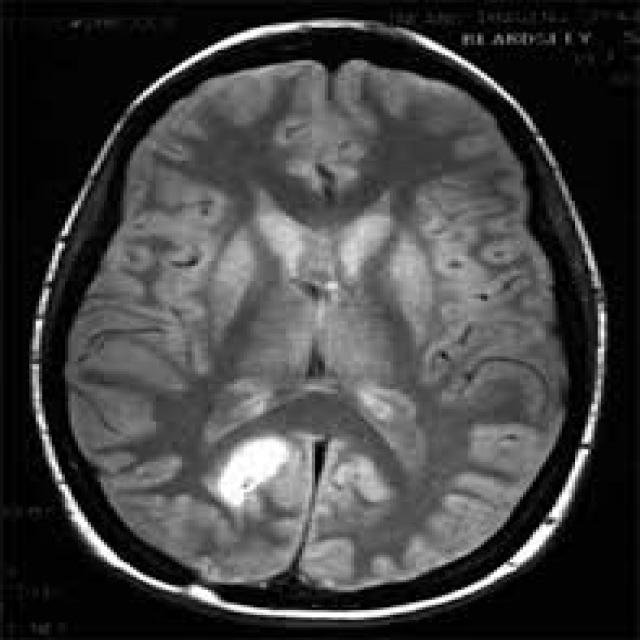Tumor-Cell: (178, 385, 278, 500)
